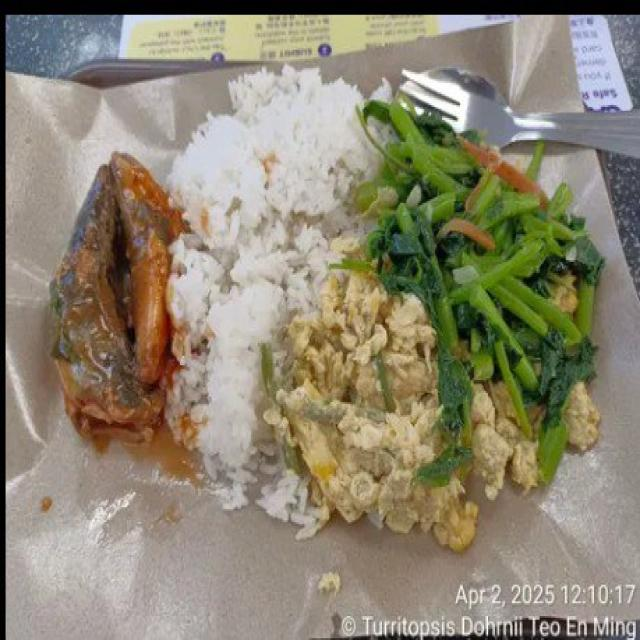Egg: (264, 271, 538, 550), (565, 384, 600, 450)
Fish: (50, 153, 188, 441)
Green veg: (336, 98, 602, 483)
Rice: (163, 66, 375, 531)
